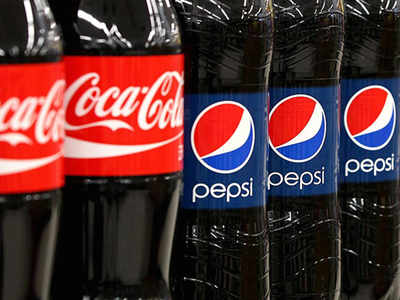pepsi: (189, 98, 255, 174), (268, 93, 325, 162), (341, 84, 395, 150), (341, 85, 395, 150), (342, 84, 395, 150)
